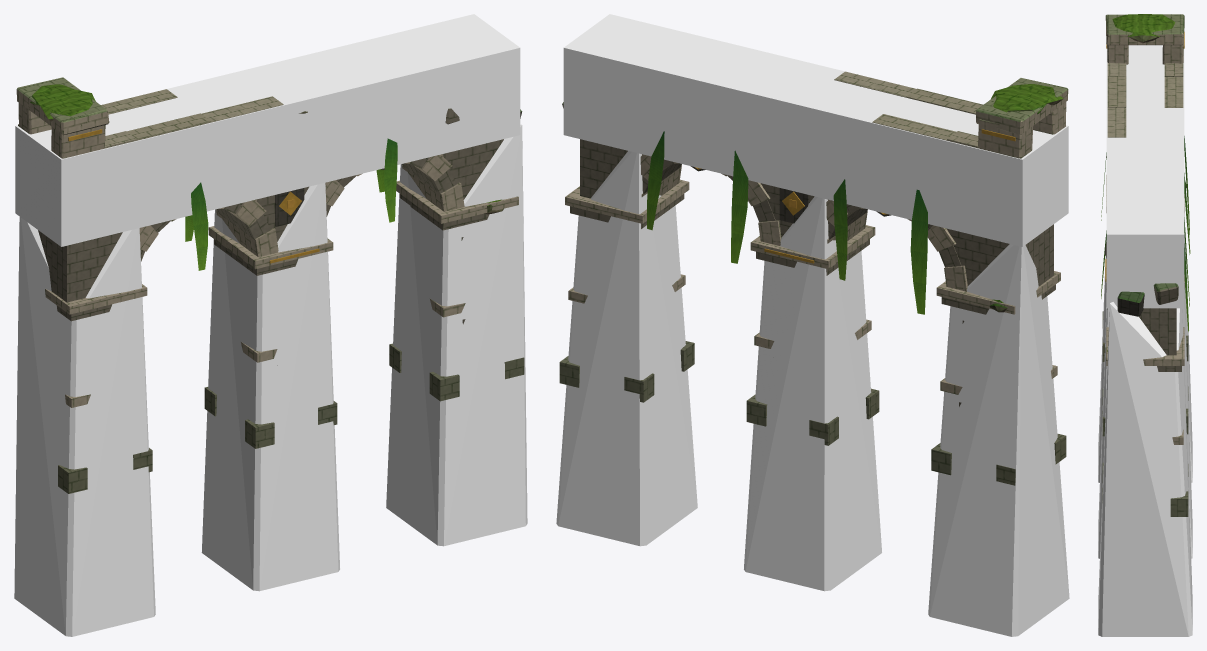
The model's file is cliff_ruin_aqueduct_arch.glb.
The picture shows the model from 3 angles, left to right: view 1: azimuth 30°, elevation 25°; view 2: azimuth 150°, elevation 25°; view 3: azimuth 270°, elevation 25°; orthographic projection. The views are drawn at different scales.
Parts seen in each view (by area): view 1: col_aqueduct_deck, col_aqueduct_left, col_aqueduct_right, col_aqueduct_mid, CliffRuinAqueductArch; view 2: col_aqueduct_deck, col_aqueduct_left, col_aqueduct_right, col_aqueduct_mid, CliffRuinAqueductArch; view 3: col_aqueduct_right, col_aqueduct_deck, CliffRuinAqueductArch, col_aqueduct_mid, col_aqueduct_left.
Part boxes in pixels (bbox=[...]): col_aqueduct_deck: bbox=[15, 14, 520, 246]; col_aqueduct_left: bbox=[14, 217, 155, 636]; col_aqueduct_right: bbox=[386, 124, 527, 546]; col_aqueduct_mid: bbox=[201, 183, 339, 591]; CliffRuinAqueductArch: bbox=[16, 77, 524, 493]; col_aqueduct_deck: bbox=[563, 14, 1068, 246]; col_aqueduct_left: bbox=[928, 244, 1069, 636]; col_aqueduct_right: bbox=[556, 151, 697, 546]; col_aqueduct_mid: bbox=[744, 196, 881, 591]; CliffRuinAqueductArch: bbox=[559, 71, 1068, 485]; col_aqueduct_right: bbox=[1098, 302, 1192, 636]; col_aqueduct_deck: bbox=[1106, 46, 1184, 308]; CliffRuinAqueductArch: bbox=[1101, 14, 1190, 516]; col_aqueduct_mid: bbox=[1098, 290, 1192, 558]; col_aqueduct_left: bbox=[1098, 213, 1192, 482].
Bounding box in the file's own units: 18.9 × 19.47 × 3.84.
Materials: 6 (5 with a texture image).
